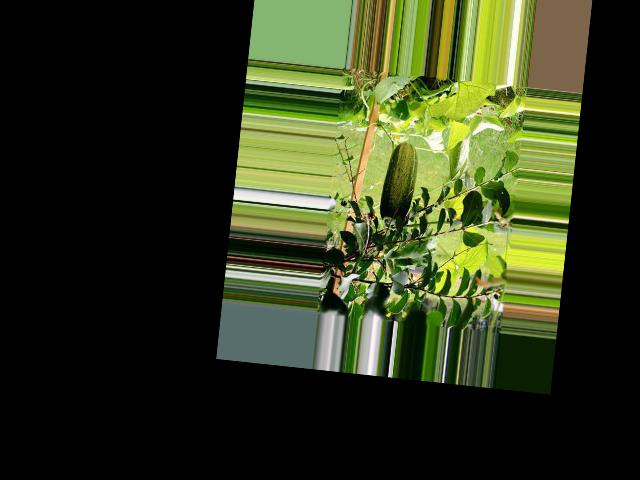cucumber: (376, 140, 419, 231)
